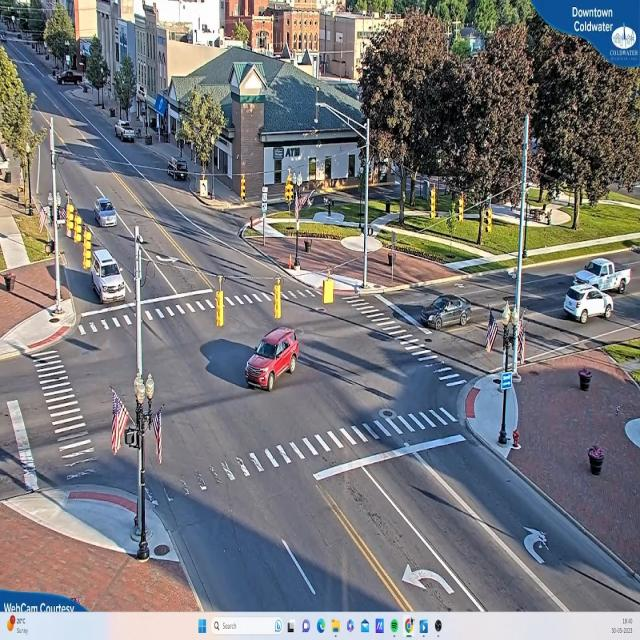car: (245, 328, 299, 394), (562, 276, 612, 323), (91, 250, 128, 305), (580, 259, 624, 295), (426, 294, 470, 328), (95, 197, 116, 227), (165, 160, 189, 180), (116, 123, 136, 143)
